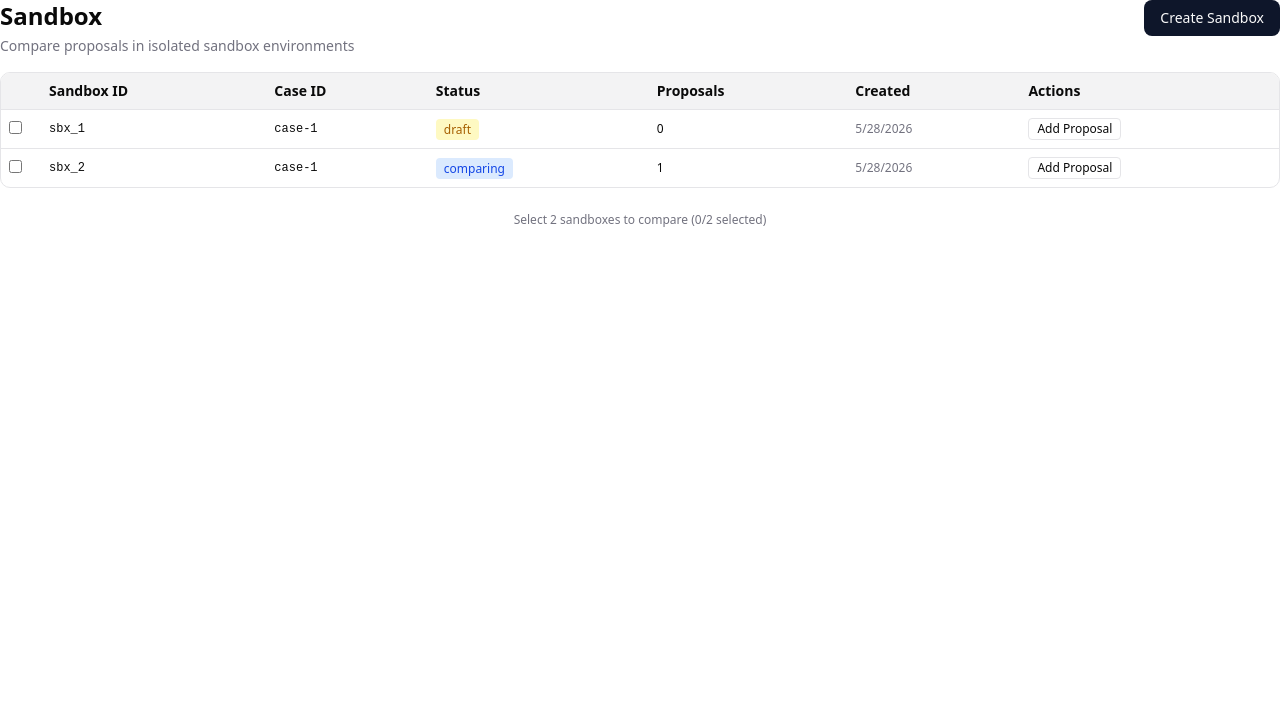
Test case: SandboxCompare › opens create sandbox dialog
The width and height of the screenshot is (1280, 720).
Expected: the text "sbx_1" is shown, [41,110,266,148]
Click the button "Create Sandbox" at (1212, 18), box [1144,0,1279,36]
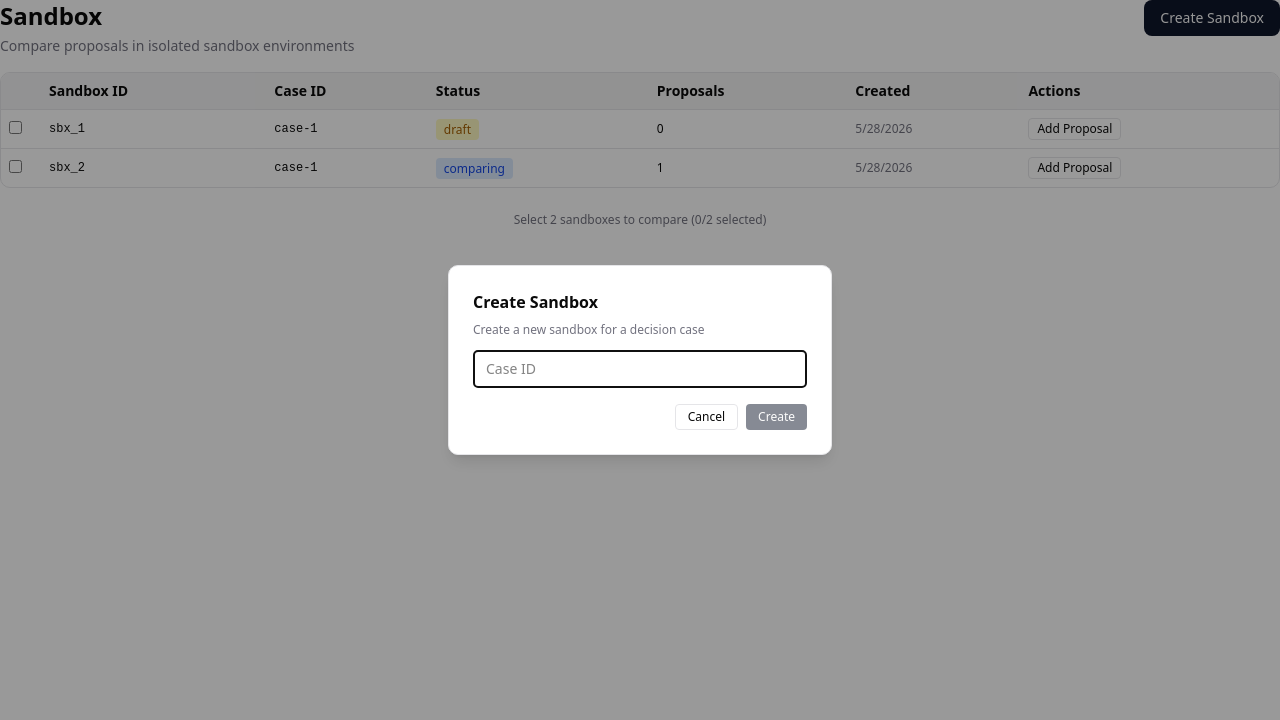
Now the text "Create a new sandbox for a decision case" is shown, box [473,321,704,338]
